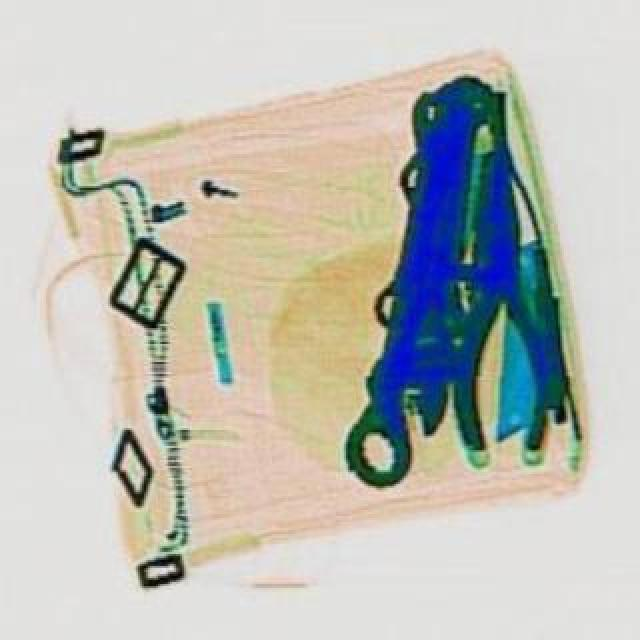scissors: (336, 86, 476, 488)
wrench: (442, 148, 550, 464)
